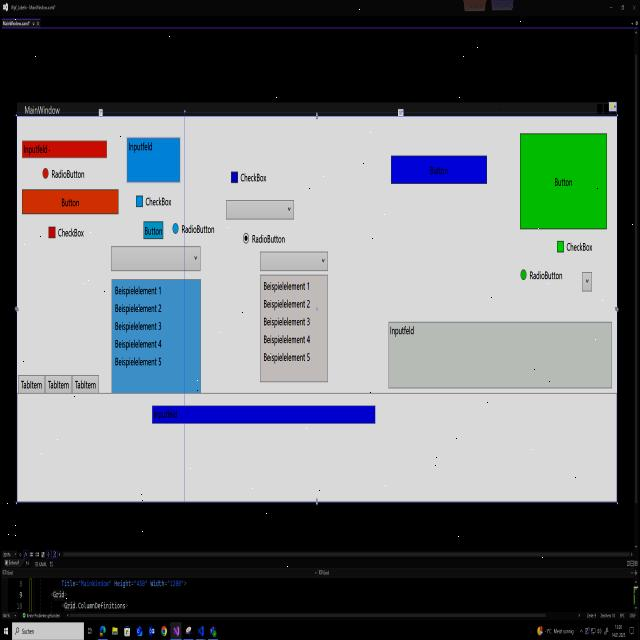button: (518, 130, 608, 231), (390, 153, 488, 185), (21, 188, 120, 216), (142, 218, 164, 240)
checkbox: (556, 238, 566, 255), (47, 224, 57, 241), (230, 168, 240, 184), (136, 193, 144, 211)
dropdownMenu: (110, 243, 203, 396), (259, 250, 329, 384), (224, 197, 295, 221), (580, 268, 593, 294)
input: (386, 318, 614, 391), (151, 403, 377, 428), (125, 133, 182, 185), (20, 137, 109, 161)
label: (529, 268, 563, 282), (566, 240, 593, 254), (51, 169, 85, 180), (240, 172, 268, 184), (252, 234, 285, 244), (57, 228, 85, 239), (181, 225, 215, 234), (145, 197, 172, 207)
menuItem: (262, 277, 312, 292), (114, 354, 163, 368), (262, 350, 310, 364), (263, 315, 312, 328), (115, 284, 162, 297), (115, 302, 163, 314), (263, 333, 311, 345), (114, 338, 163, 349), (114, 320, 163, 331), (263, 299, 311, 309)
radio: (242, 231, 250, 246), (519, 267, 527, 282), (42, 166, 49, 183), (172, 222, 180, 236)
tabControl: (17, 373, 46, 396), (44, 374, 73, 396), (71, 374, 100, 396)
